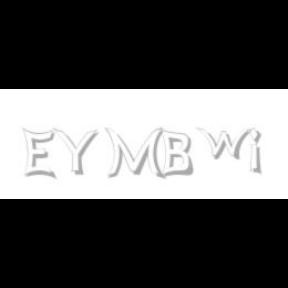B: (159, 128, 193, 178)
E: (22, 128, 55, 180)
M: (104, 128, 164, 180)
Y: (52, 128, 98, 176)
i: (249, 128, 265, 176)
w: (196, 128, 256, 160)
